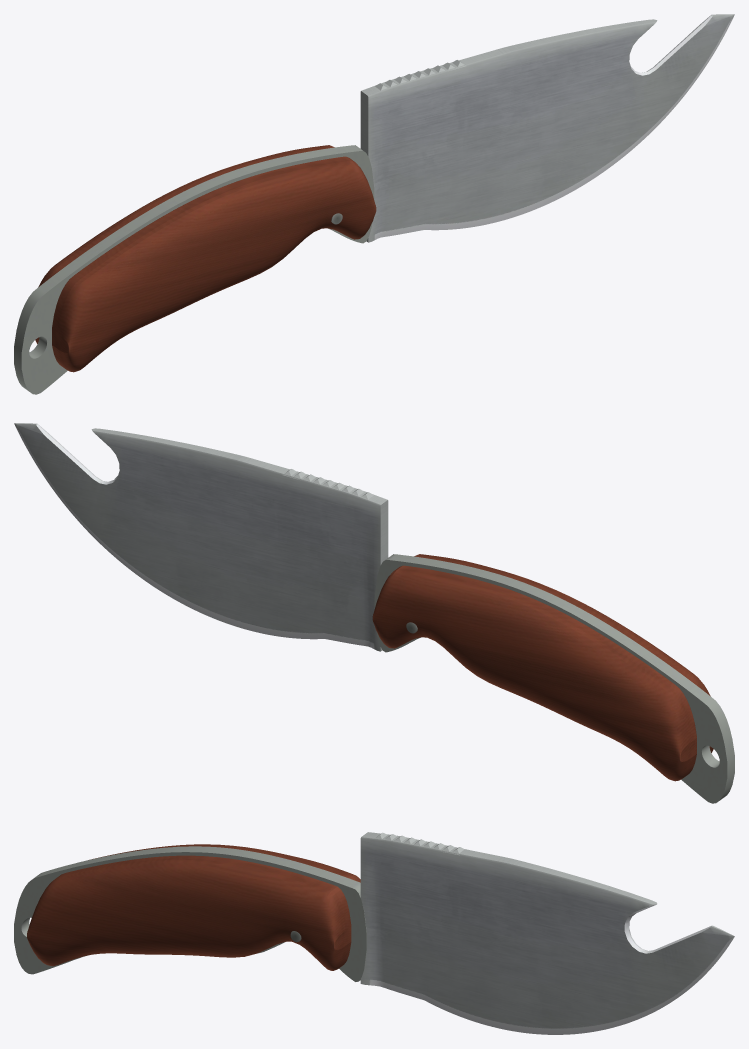
The model's file is gut.glb.
The picture shows the model from 3 angles, top to bottom: view 1: azimuth 30°, elevation 25°; view 2: azimuth 150°, elevation 25°; view 3: azimuth 330°, elevation 25°; orthographic projection.
Visible parts, largest first — view 1: body; view 2: body; view 3: body.
Boxes of the visible parts, x1,y1,x2,y2 form: body: (14,14,734,394); body: (14,423,734,803); body: (14,832,734,1034).
Size of the model in its own units: 0.24 by 0.0726 by 0.0245.
5 materials, 5 textured.
